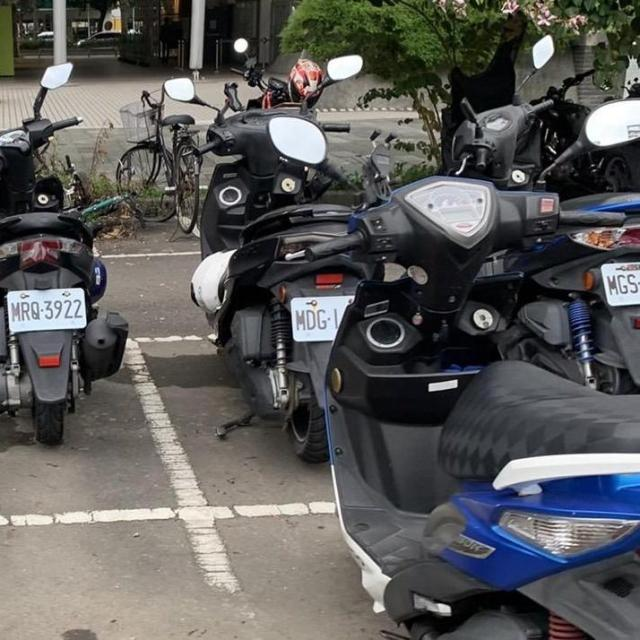W: (2, 283, 94, 335), (284, 290, 360, 344), (592, 254, 640, 312)
